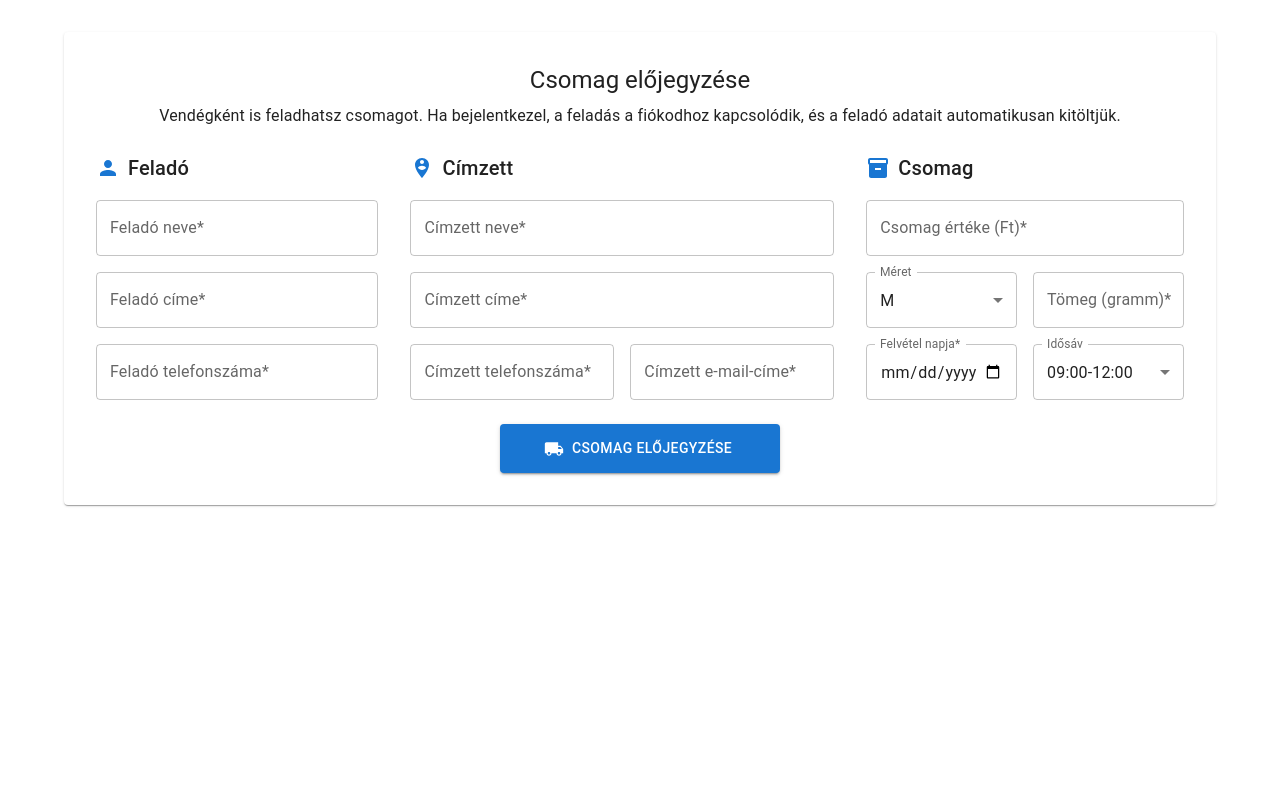
it: Csomagelőjegyzés › üres űrlapot nem küld el
Click the button "Csomag előjegyzése". click: (640, 449)
box: [500,424,780,473]
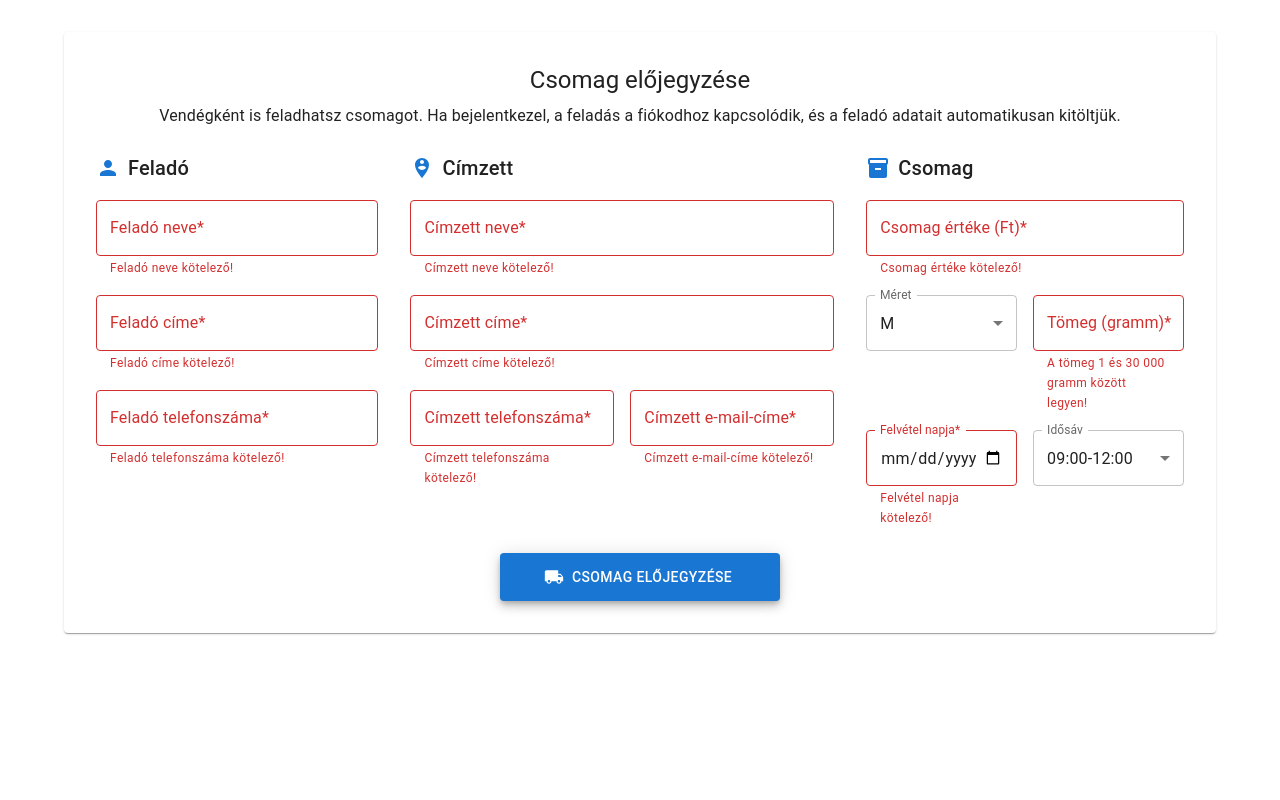
Expected: the text "Feladó neve kötelező!" is shown, [110,261,234,275]
